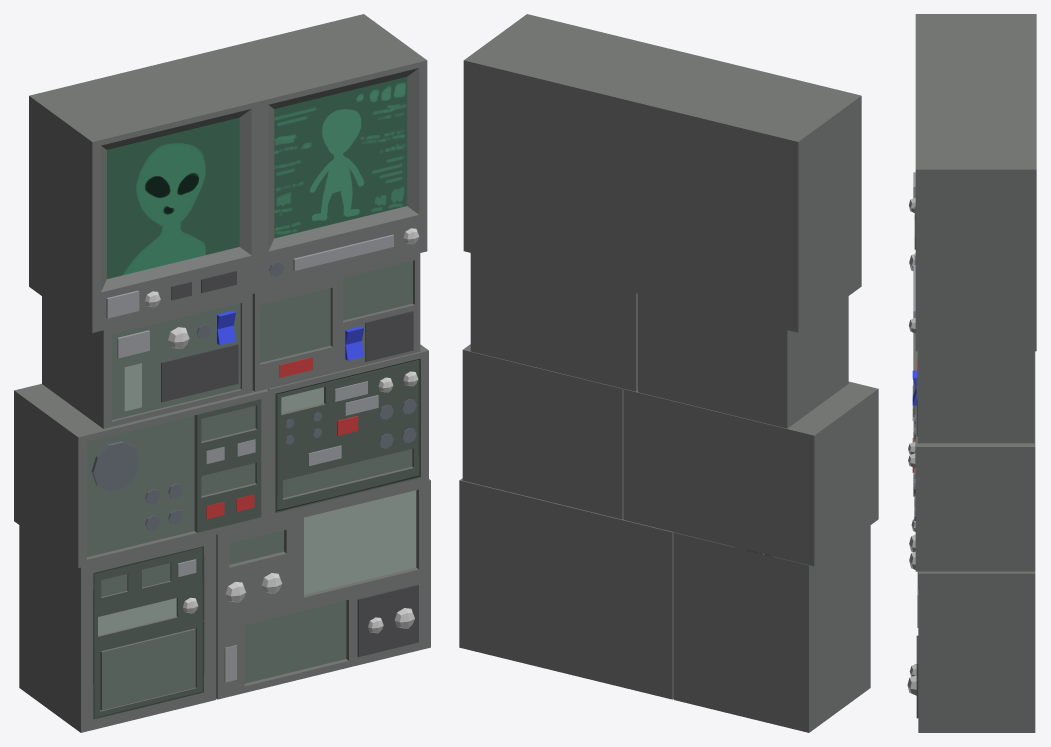
The model's file is alien_devices_0506.fbx.
The picture shows the model from 3 angles, left to right: view 1: azimuth 30°, elevation 25°; view 2: azimuth 150°, elevation 25°; view 3: azimuth 270°, elevation 25°; orthographic projection. The views are drawn at different scales.
Parts seen in each view (by area): view 1: device; view 2: device; view 3: device.
Part boxes in pixels (x1=…): device: x1=14, y1=14, x2=430, y2=732; device: x1=459, y1=14, x2=878, y2=732; device: x1=907, y1=14, x2=1036, y2=732.
Bounding box in the file's own units: 156 × 247 × 51.44.
Materials: 1 (1 with a texture image).
